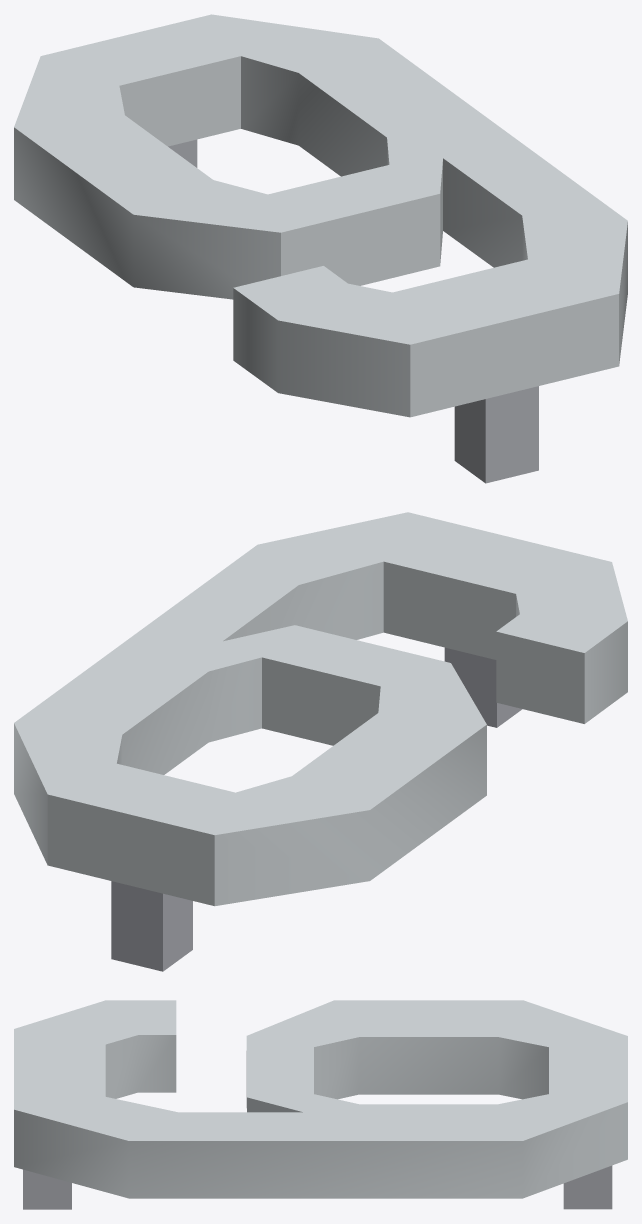
File: 0467_Flower_Clock_9.glb
3 renders of one model, top to bottom at view 1: azimuth 30°, elevation 25°; view 2: azimuth 150°, elevation 25°; view 3: azimuth 270°, elevation 25°, orthographic. The views are drawn at different scales.
Visible parts, largest first — view 1: part_0; view 2: part_0; view 3: part_0.
Boxes of the visible parts, <box> form: part_0: <box>14,14,627,483</box>; part_0: <box>14,512,627,971</box>; part_0: <box>14,1000,627,1209</box>.
Bounding box in the file's own units: 0.4201 × 0.1792 × 0.7743.
1 material, 1 textured.
